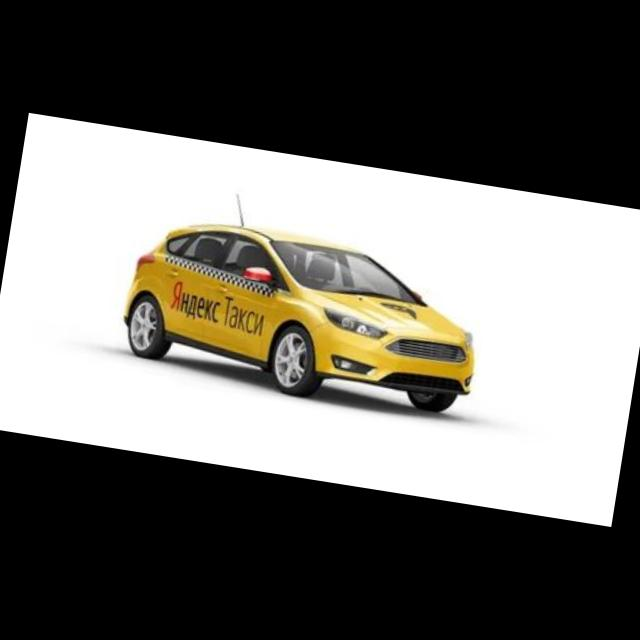taxi: (115, 181, 497, 424)
